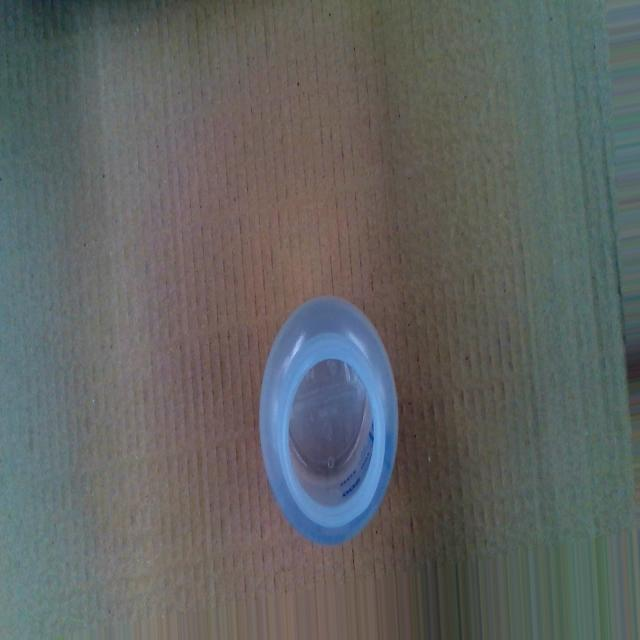bottle: (259, 297, 400, 546)
